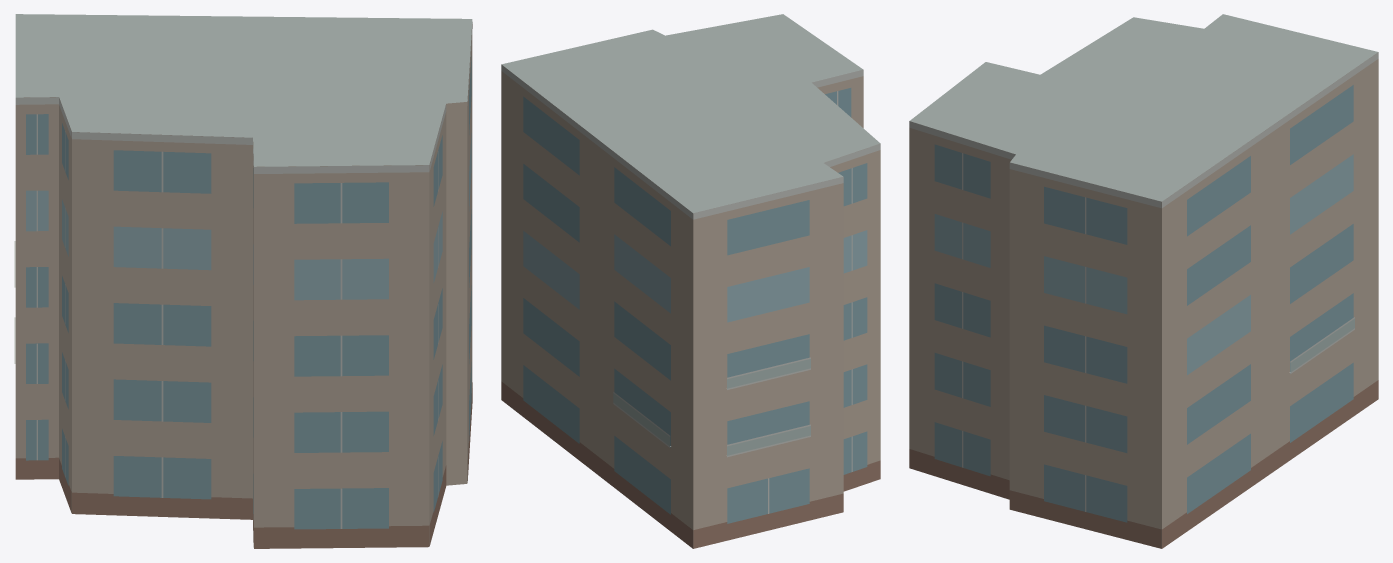
Rendered from survey-upis-32597260.glb.
The picture shows the model from 3 angles, left to right: view 1: azimuth 30°, elevation 25°; view 2: azimuth 150°, elevation 25°; view 3: azimuth 270°, elevation 25°; orthographic projection. The views are drawn at different scales.
Parts seen in each view (by area): view 1: survey-upis-32597260.tmp; view 2: survey-upis-32597260.tmp; view 3: survey-upis-32597260.tmp.
Part boxes in pixels (bbox=[...]): survey-upis-32597260.tmp: bbox=[14, 14, 472, 548]; survey-upis-32597260.tmp: bbox=[501, 14, 880, 548]; survey-upis-32597260.tmp: bbox=[909, 14, 1378, 548].
Size of the model in its own units: 14.79 by 12.75 by 15.62.
